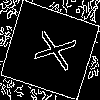X: (25, 25, 77, 73)
